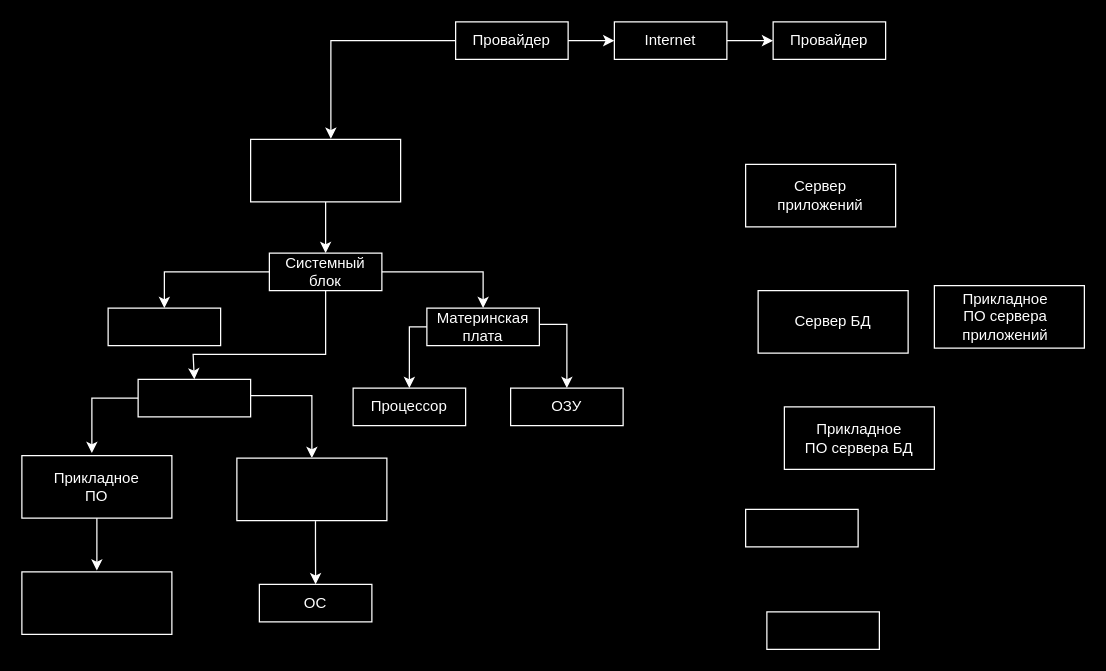
This 1106x671 diagram has some shape labels left out. The centre of each missing label's shape, as x and y in pixels:
"БД" goes at (x=822, y=630).
"Блок питания" goes at (x=164, y=326).
"Жесткий диск" goes at (x=194, y=397).
"Интернет браузер" goes at (x=96, y=602).
"Рабочая станция" goes at (x=325, y=170).
"Системное ПО" goes at (x=311, y=489).
"СУБД" goes at (x=801, y=527).
